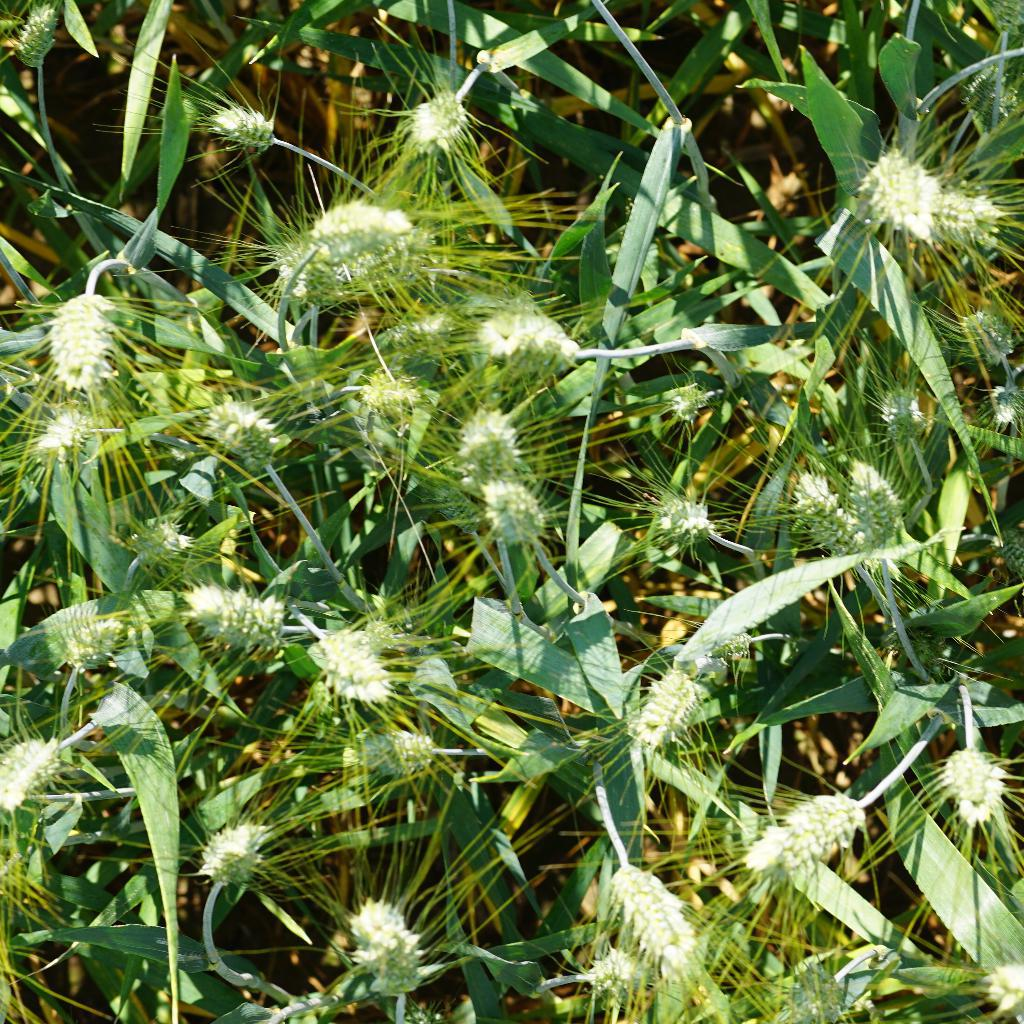0-0: (585, 849, 707, 971), (747, 780, 877, 870), (328, 884, 430, 998), (832, 440, 920, 559), (634, 651, 728, 759), (179, 570, 290, 661), (309, 617, 408, 716), (778, 471, 866, 582), (933, 729, 1024, 830), (485, 299, 595, 381), (852, 129, 940, 231), (385, 79, 493, 161), (40, 591, 135, 684), (41, 288, 120, 395), (291, 194, 417, 261), (365, 290, 468, 365), (468, 482, 560, 563), (934, 178, 1024, 258), (0, 728, 93, 803), (191, 85, 283, 159), (869, 365, 942, 455), (23, 393, 97, 481), (210, 400, 292, 478), (186, 818, 268, 896), (351, 722, 444, 783), (455, 396, 526, 475), (336, 363, 422, 428), (653, 477, 724, 548), (763, 961, 842, 1024), (109, 518, 202, 571), (15, 0, 73, 71), (951, 60, 1009, 131), (960, 296, 1017, 365), (582, 945, 643, 1009), (976, 369, 1024, 430), (650, 376, 709, 419), (989, 517, 1024, 582)
